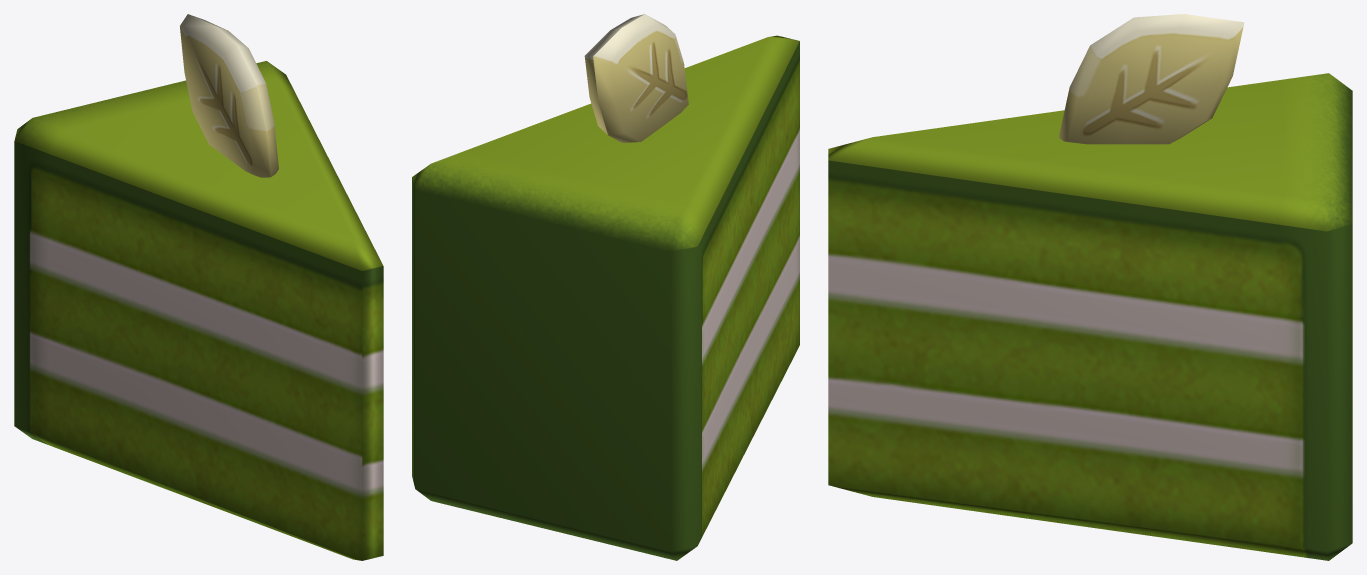
The model's file is Matcha_Slice.fbx.
3 views of the same model, side by side, from view 1: azimuth 30°, elevation 25°; view 2: azimuth 150°, elevation 25°; view 3: azimuth 270°, elevation 25° (orthographic). The views are drawn at different scales.
Visible parts, largest first — view 1: Matcha_Slice; view 2: Matcha_Slice; view 3: Matcha_Slice.
Part boxes in pixels (bbox=[...]): Matcha_Slice: bbox=[14, 14, 383, 560]; Matcha_Slice: bbox=[412, 14, 799, 560]; Matcha_Slice: bbox=[828, 14, 1352, 560].
Size of the model in its own units: 26.02 by 39.47 by 38.81.
